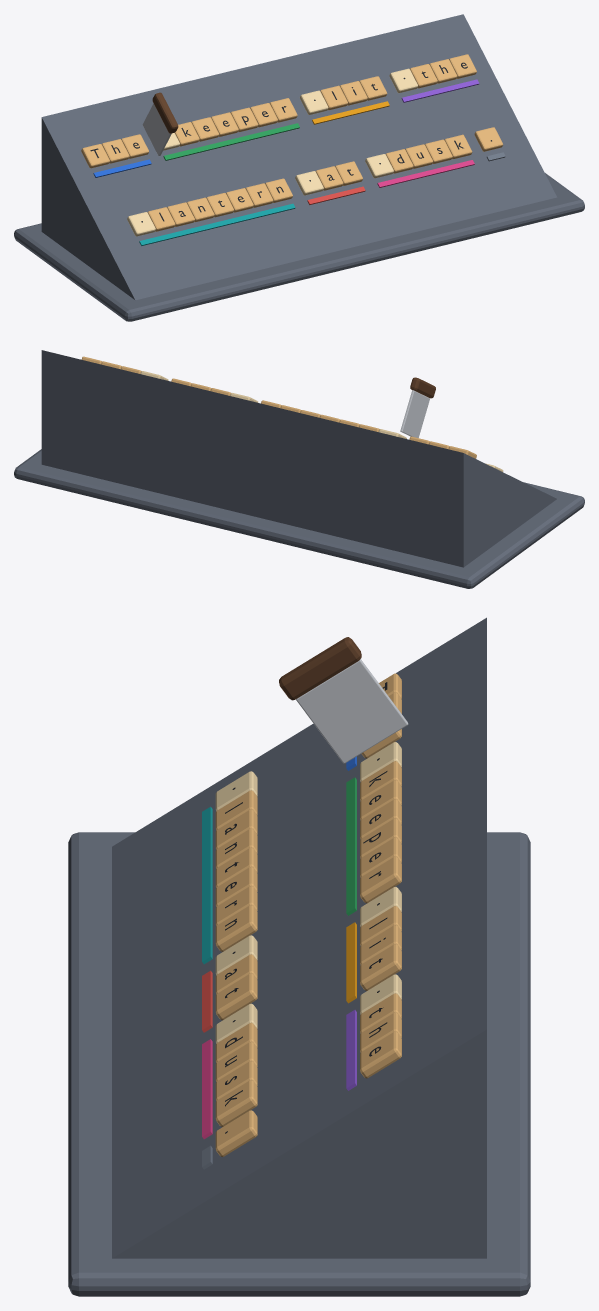
The model's file is pre_tokenizer.glb.
3 renders of one model, top to bottom at view 1: azimuth 30°, elevation 25°; view 2: azimuth 150°, elevation 25°; view 3: azimuth 270°, elevation 25°, orthographic. The views are drawn at different scales.
Visible parts, largest first — view 1: slope, stand, bar4, bar1, blade_steel, bar6, blade_handle, t5_-0.015_b, t6_0.171_b, t4_-0.461_b, t7_0.461_b, t3_0.331_b (+31 smaller); view 2: slope, stand, blade_steel, blade_handle; view 3: slope, stand, blade_steel, blade_handle, bar4, bar1, t7_0.461_b, t4_-0.097_b, t5_0.089_b, t6_0.379_b, t1_0.011_b, t2_0.249_b (+4 smaller).
Part boxes in pixels (x1,y1,x2,y2): slope: (41,14,557,300); stand: (14,173,584,321); bar4: (139,203,295,245); bar1: (163,123,299,160); blade_steel: (142,103,171,155); bar6: (377,160,474,187); blade_handle: (152,92,178,133); t5_-0.015_b: (295,171,323,195); t6_0.171_b: (365,154,393,178); t4_-0.461_b: (127,212,155,236); t7_0.461_b: (474,127,503,151); t3_0.331_b: (389,68,417,93); slope: (41,350,556,567); stand: (14,449,584,588); blade_steel: (400,390,429,437); blade_handle: (410,377,435,398); slope: (112,617,486,1258); stand: (68,832,530,1296); blade_steel: (296,659,408,763); blade_handle: (279,637,361,700); bar4: (202,806,212,964); bar1: (346,777,356,915); t7_0.461_b: (215,1110,257,1156); t4_-0.097_b: (215,905,257,951); t5_0.089_b: (215,973,257,1020); t6_0.379_b: (215,1080,257,1126); t1_0.011_b: (360,856,401,903); t2_0.249_b: (360,944,401,990).
Bounding box in the file's own units: 1.22 × 0.3954 × 0.5311.
